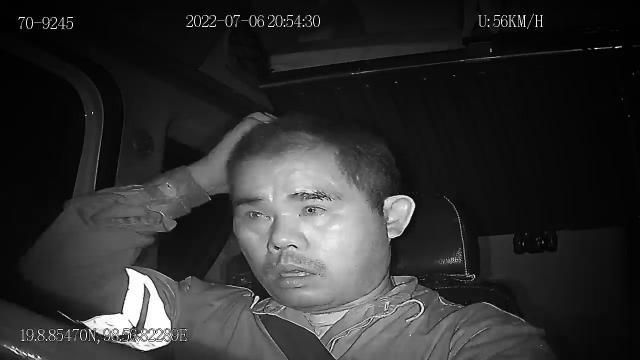SafeDriving: (291, 194, 336, 220), (235, 198, 276, 226)
Seatbelt: (224, 268, 338, 360)
